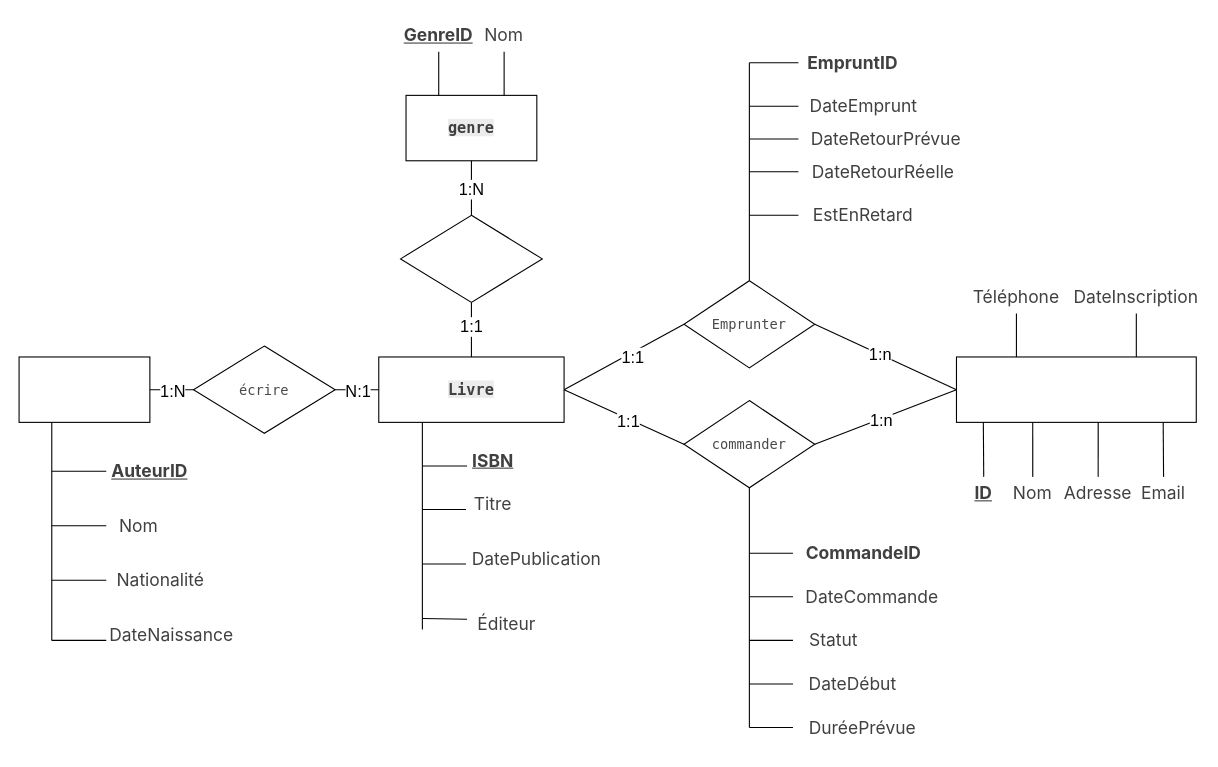
Image size: 1218x767. Some labels were removed from this diagram. Each missing label, with the centre of its shape:
"Adhérent" goes at (1075,389).
"Auteur" goes at (84,389).
"classfier" goes at (470,258).
